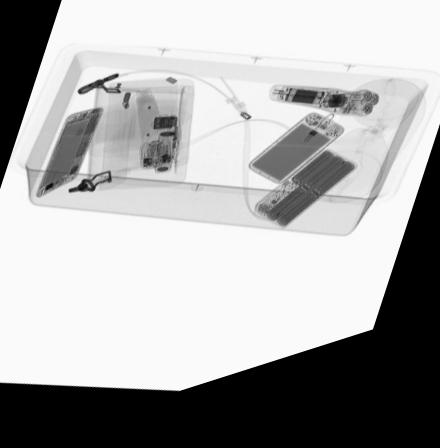Powerbank: (250, 168, 359, 246)
